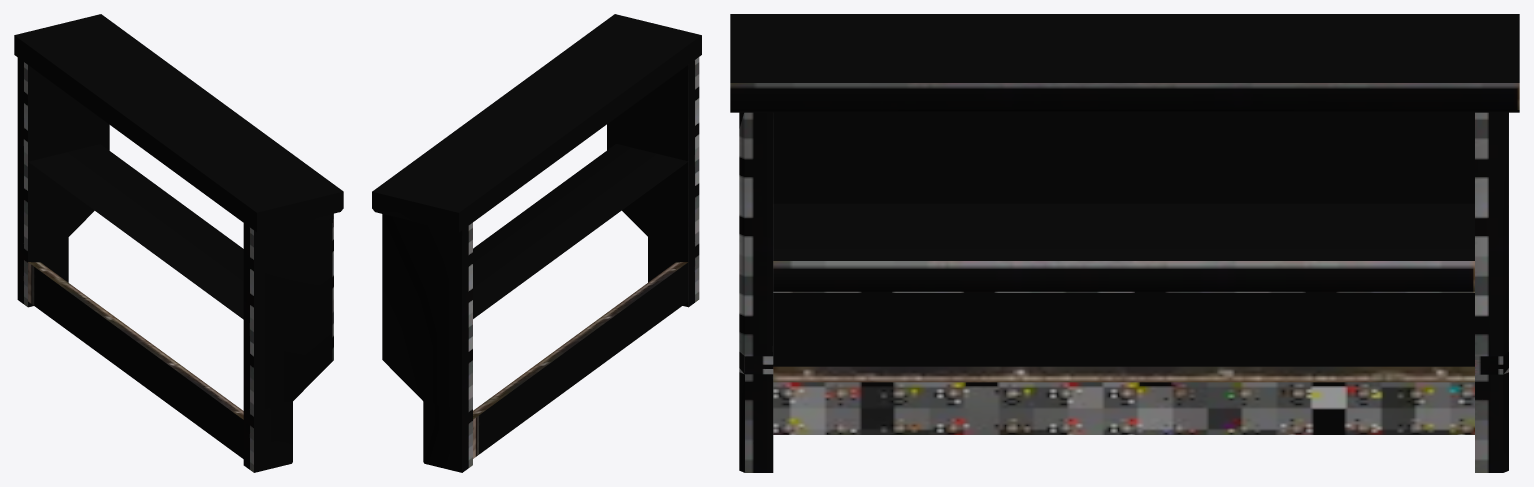
Rendered from o_mdl_env_propFurnitureWallShelfA-transformed.glb.
The picture shows the model from 3 angles, left to right: view 1: azimuth 30°, elevation 25°; view 2: azimuth 150°, elevation 25°; view 3: azimuth 270°, elevation 25°; orthographic projection. The views are drawn at different scales.
Visible parts, largest first — view 1: default; view 2: default; view 3: default.
Part boxes in pixels (bbox=[...]): default: bbox=[14, 14, 343, 472]; default: bbox=[372, 14, 701, 472]; default: bbox=[730, 14, 1519, 472].
Bounding box in the file's own units: 0.2056 × 0.5923 × 0.9933.
Materials: 1 (1 with a texture image).
